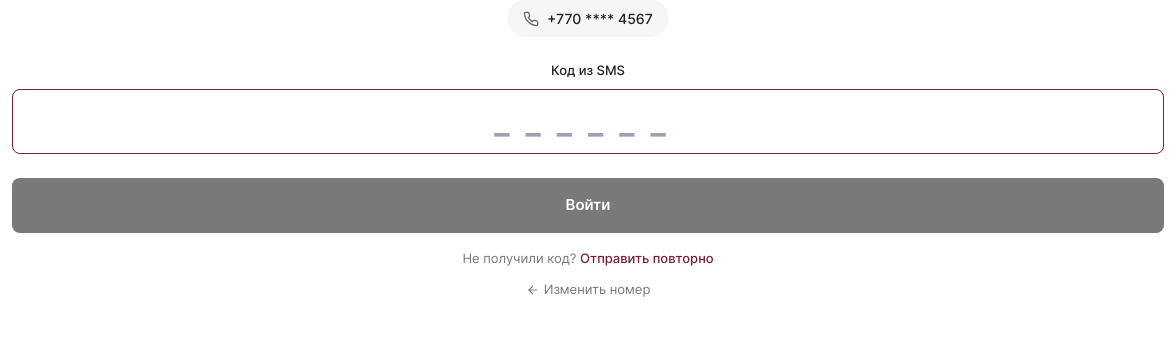
Test: Форма ввода кода › не отправляет неполный код на сервер
The image size is (1176, 342).
Type "1234" into the field with placeholder "______" at (588,121), box [12, 88, 1164, 154]
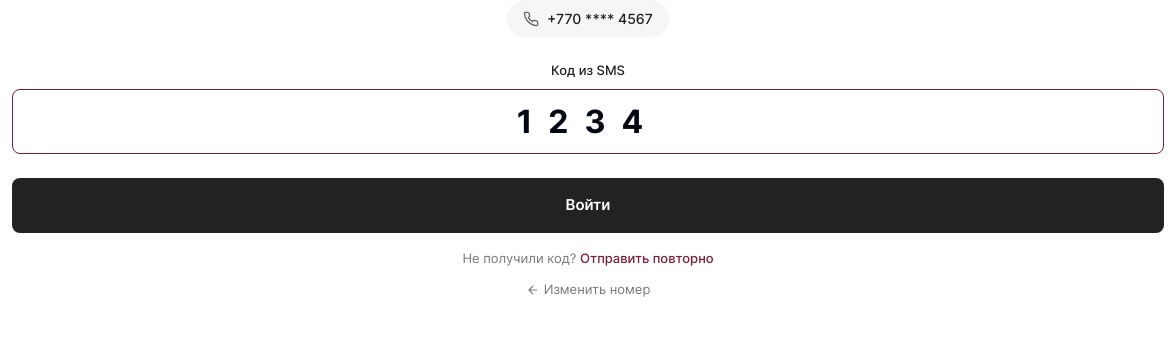
Click the button "Войти" at (588,205), box [12, 178, 1164, 232]
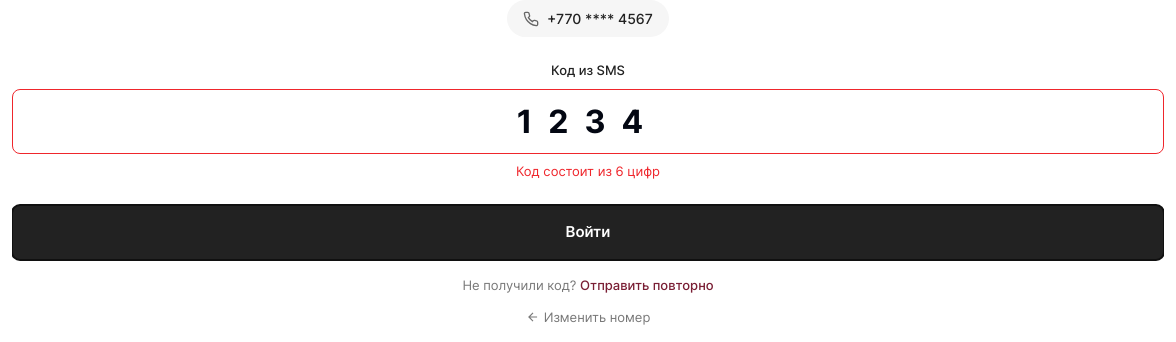
Expected: the text "Код состоит из 6 цифр" is shown, [516, 162, 660, 178]
